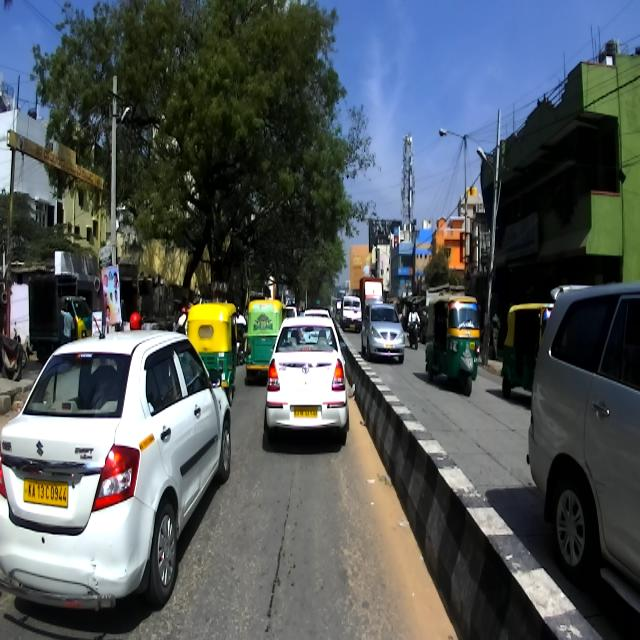auto ahead at: (420, 290, 484, 401)
car ahead at: (0, 321, 234, 631), (529, 274, 640, 612), (266, 310, 356, 454)
